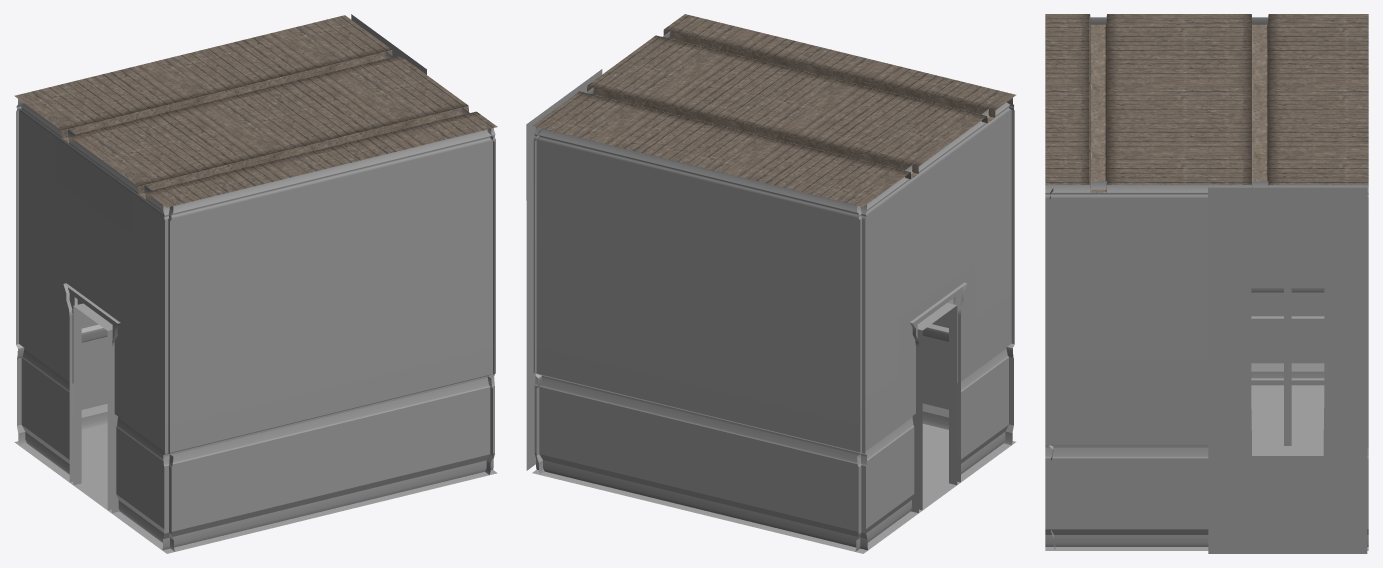
File: room_bed.fbx
3 views of the same model, side by side, from view 1: azimuth 30°, elevation 25°; view 2: azimuth 150°, elevation 25°; view 3: azimuth 270°, elevation 25° (orthographic). The views are drawn at different scales.
Visible parts, largest first — view 1: floor1; view 2: floor1; view 3: floor1.
Boxes of the visible parts, x1,y1,x2,y2 form: floor1: (14, 14, 497, 553); floor1: (526, 14, 1015, 553); floor1: (1045, 14, 1368, 553).
Size of the model in its own units: 530 by 500 by 400.
3 materials, 1 textured.
